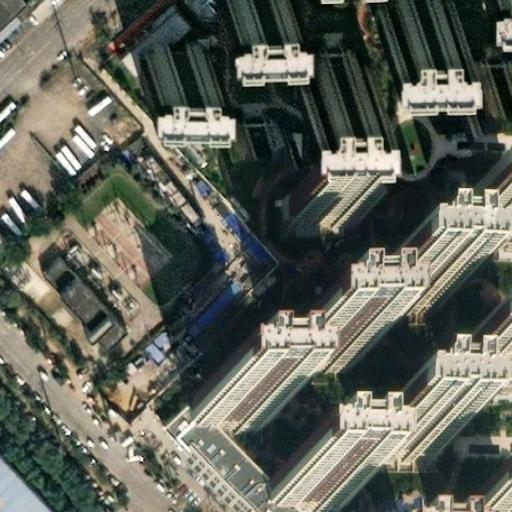building: (157, 380, 309, 512), (29, 248, 118, 340), (0, 451, 59, 512), (196, 370, 272, 413), (293, 174, 369, 217), (373, 397, 450, 439), (276, 453, 352, 495), (359, 265, 435, 307), (269, 318, 345, 360), (289, 37, 364, 77), (212, 101, 287, 141), (129, 20, 204, 60), (443, 198, 512, 240), (448, 53, 512, 97), (456, 327, 512, 369), (370, 0, 445, 13), (454, 496, 512, 512), (201, 0, 276, 8)
